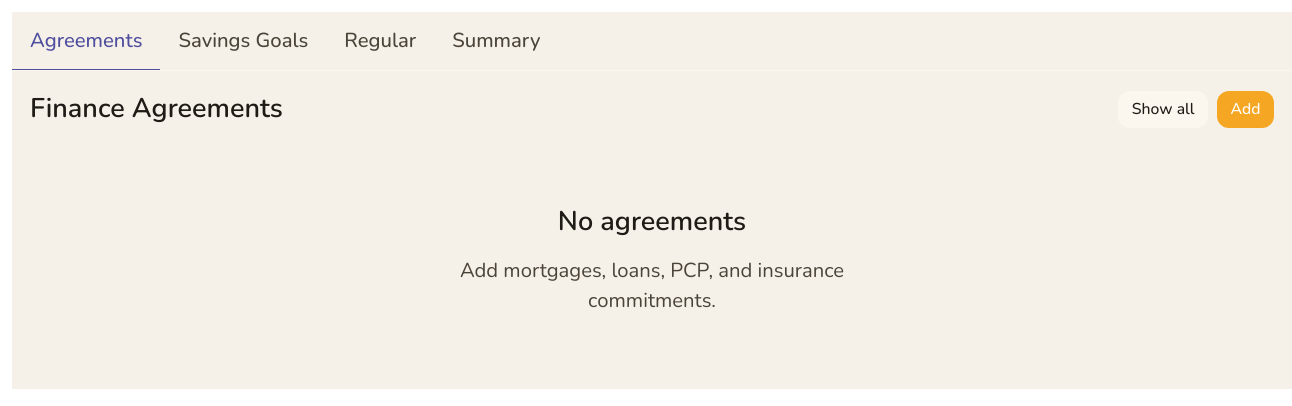
Scenario: FinancePage › switches to summary tab and shows empty state
The image size is (1292, 406).
Click the tab "Summary".
click(496, 42)  # box [434,12,558,71]
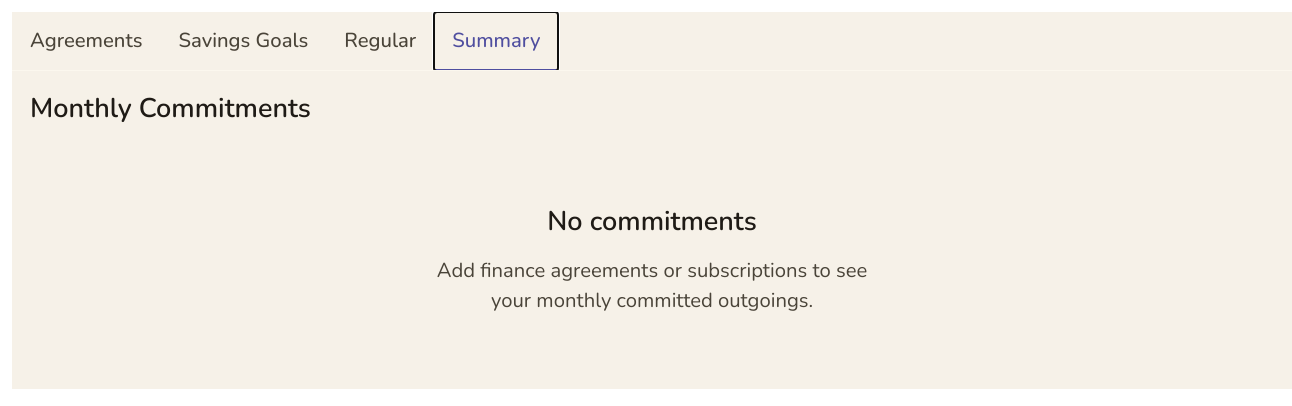
Expected: the heading "No commitments" is shown, [547,202,757,242]
